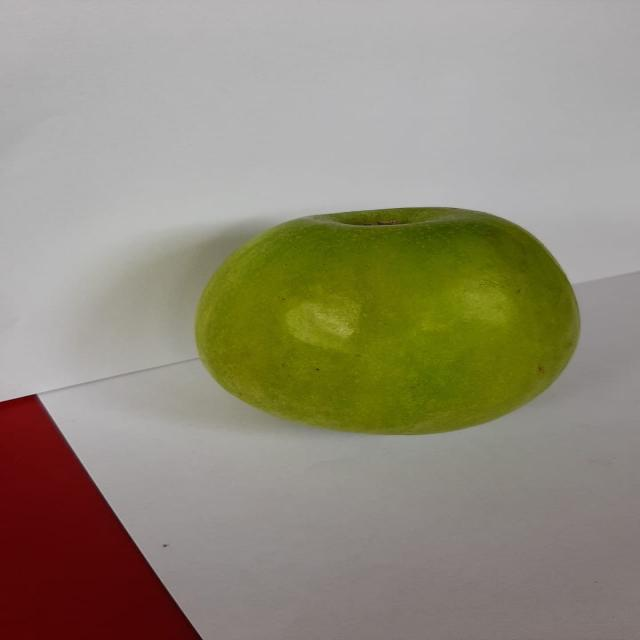50-_ripeness: (186, 196, 591, 442)
